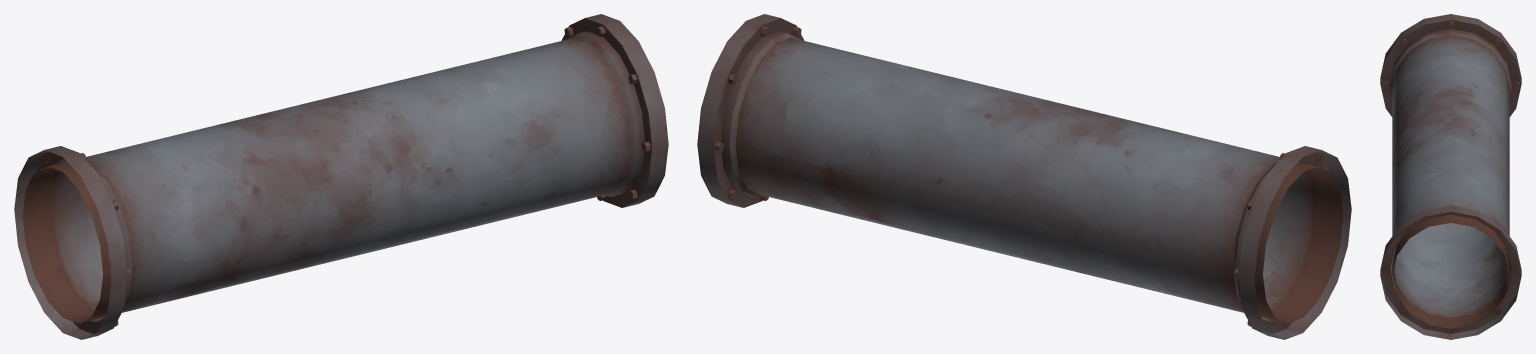
Rendered from Pipe.fbx.
3 views of the same model, side by side, from view 1: azimuth 30°, elevation 25°; view 2: azimuth 150°, elevation 25°; view 3: azimuth 270°, elevation 25° (orthographic). The views are drawn at different scales.
Visible parts, largest first — view 1: Cylinder.005; view 2: Cylinder.005; view 3: Cylinder.005.
Part boxes in pixels (left/top/right/bottom): Cylinder.005: left=14, top=14, right=668, bottom=339; Cylinder.005: left=697, top=14, right=1351, bottom=339; Cylinder.005: left=1380, top=14, right=1521, bottom=339.
Bounding box in the file's own units: 52.15 × 15.76 × 15.76.
